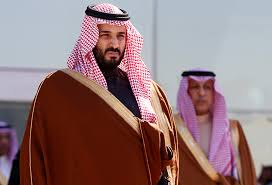middle_eastern_male: (99, 22, 134, 78)
